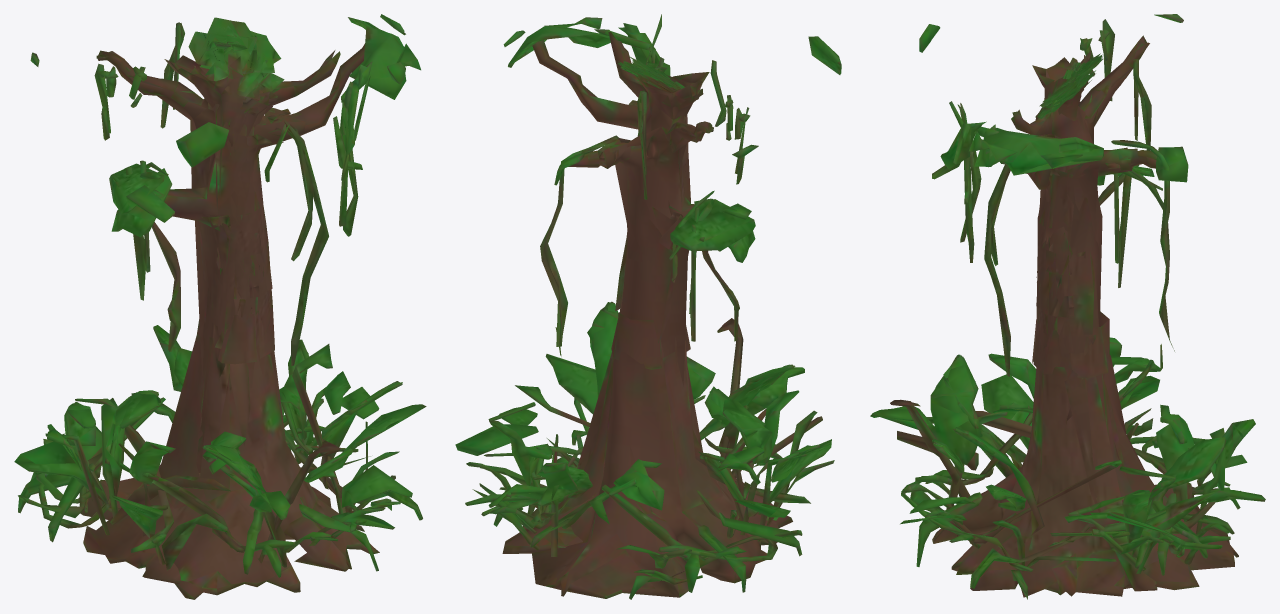
The model's file is jungle_tree.glb.
The picture shows the model from 3 angles, left to right: view 1: azimuth 30°, elevation 25°; view 2: azimuth 150°, elevation 25°; view 3: azimuth 270°, elevation 25°; orthographic projection. The views are drawn at different scales.
Parts seen in each view (by area): view 1: 0; view 2: 0; view 3: 0.
Part boxes in pixels (x1=…): 0: x1=14, y1=14, x2=426, y2=599; 0: x1=455, y1=14, x2=841, y2=599; 0: x1=870, y1=14, x2=1265, y2=599.
Size of the model in its own units: 1.08 by 1.52 by 1.1.
Materials: 1 (1 with a texture image).
